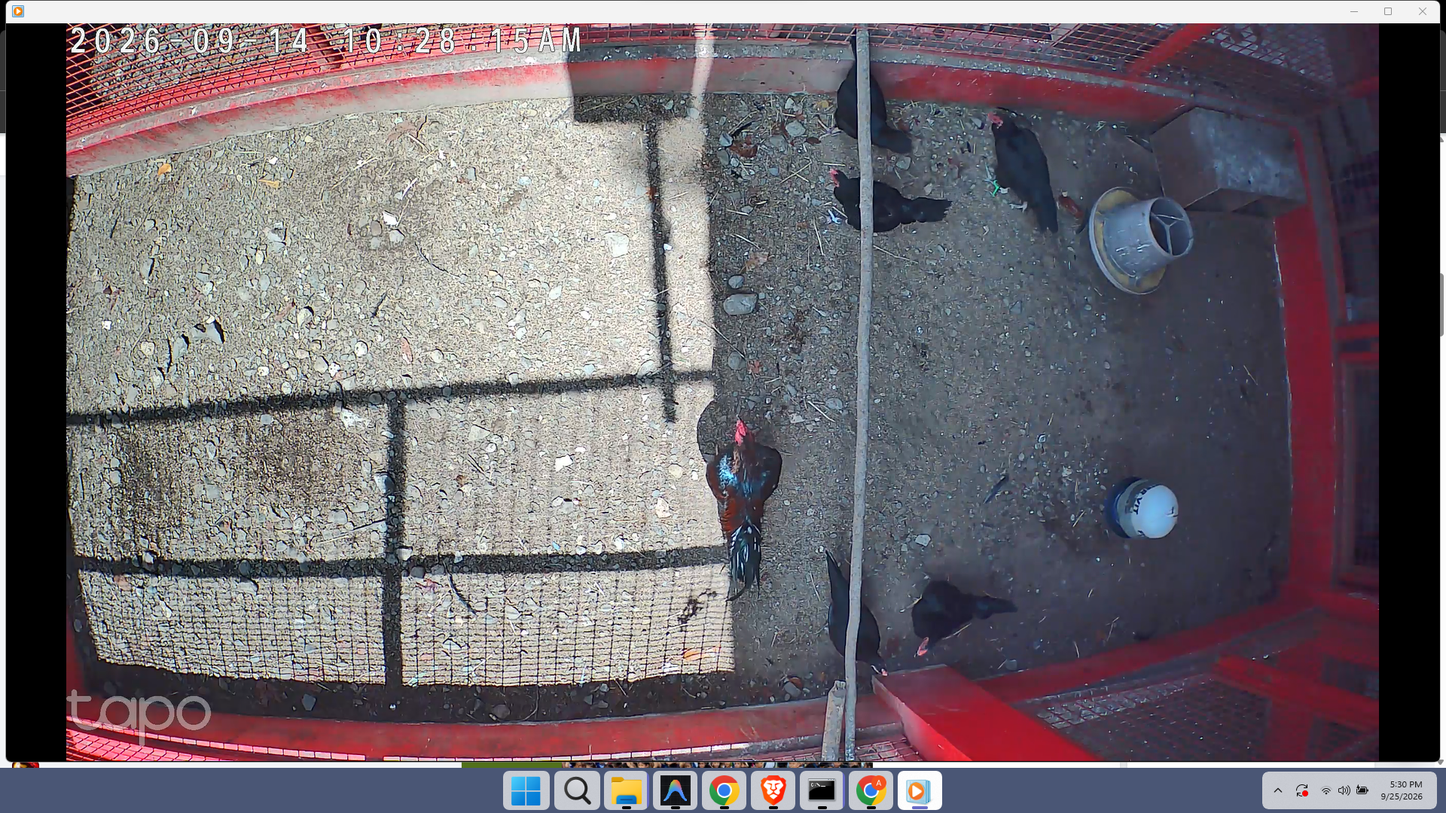Chicken: (807, 33, 913, 154), (895, 577, 1031, 669), (981, 110, 1063, 232), (816, 548, 890, 678), (820, 167, 950, 234)
Feeder: (1084, 184, 1200, 297), (1099, 473, 1185, 545)
Rooster: (704, 412, 784, 607)
